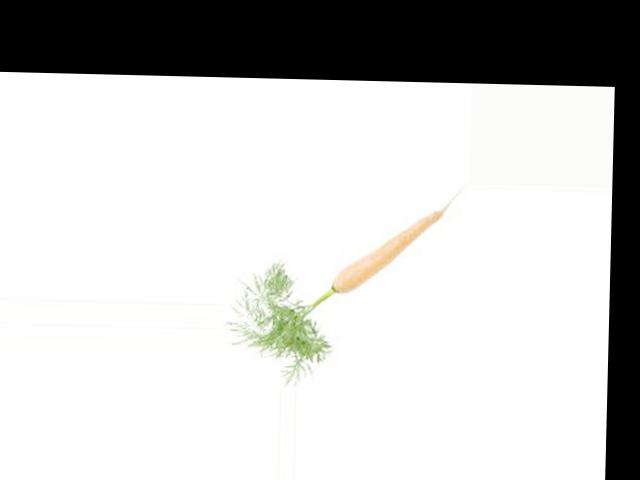carrot: (327, 200, 451, 298)
